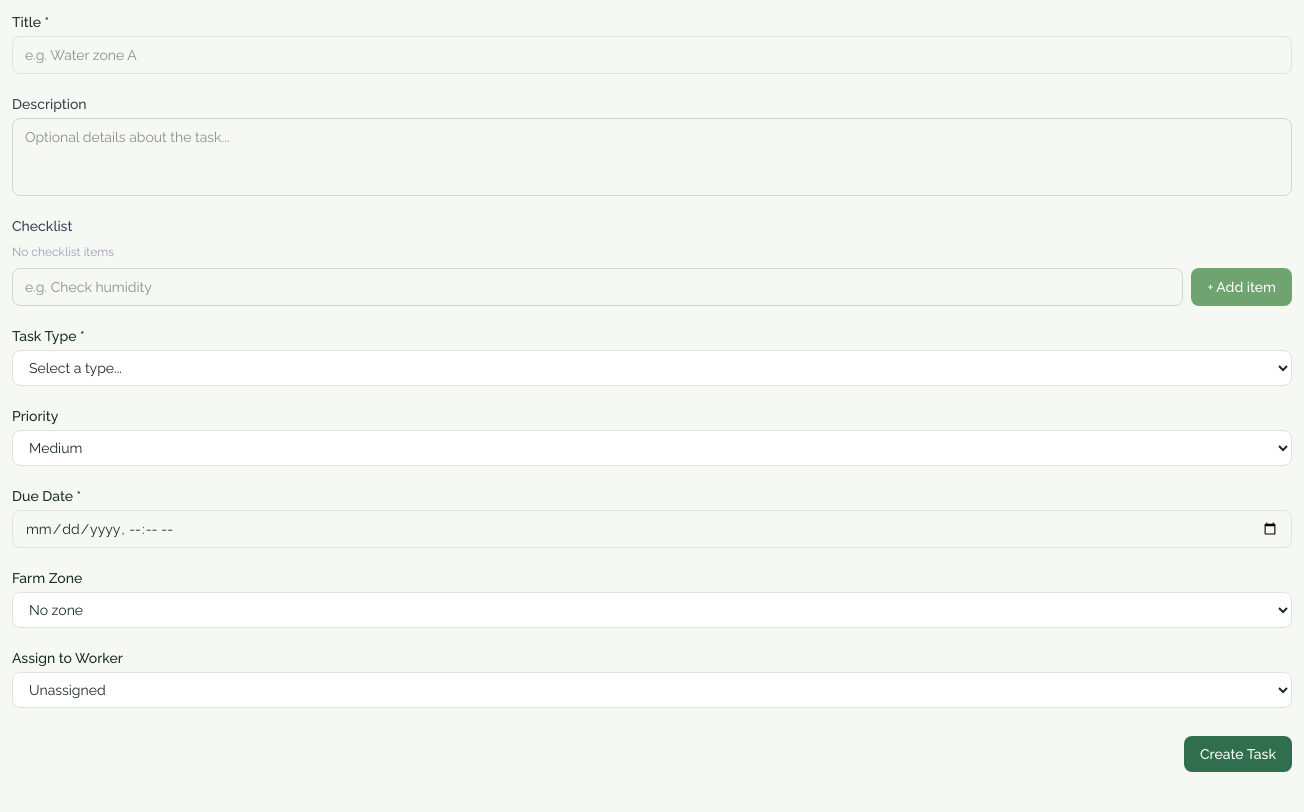
Test: TaskForm – checklist section › adds a new checklist item via the Add item button
In the field with placeholder "e.g. Check humidity": [598, 287] box [12,268,1183,306], type "New step"
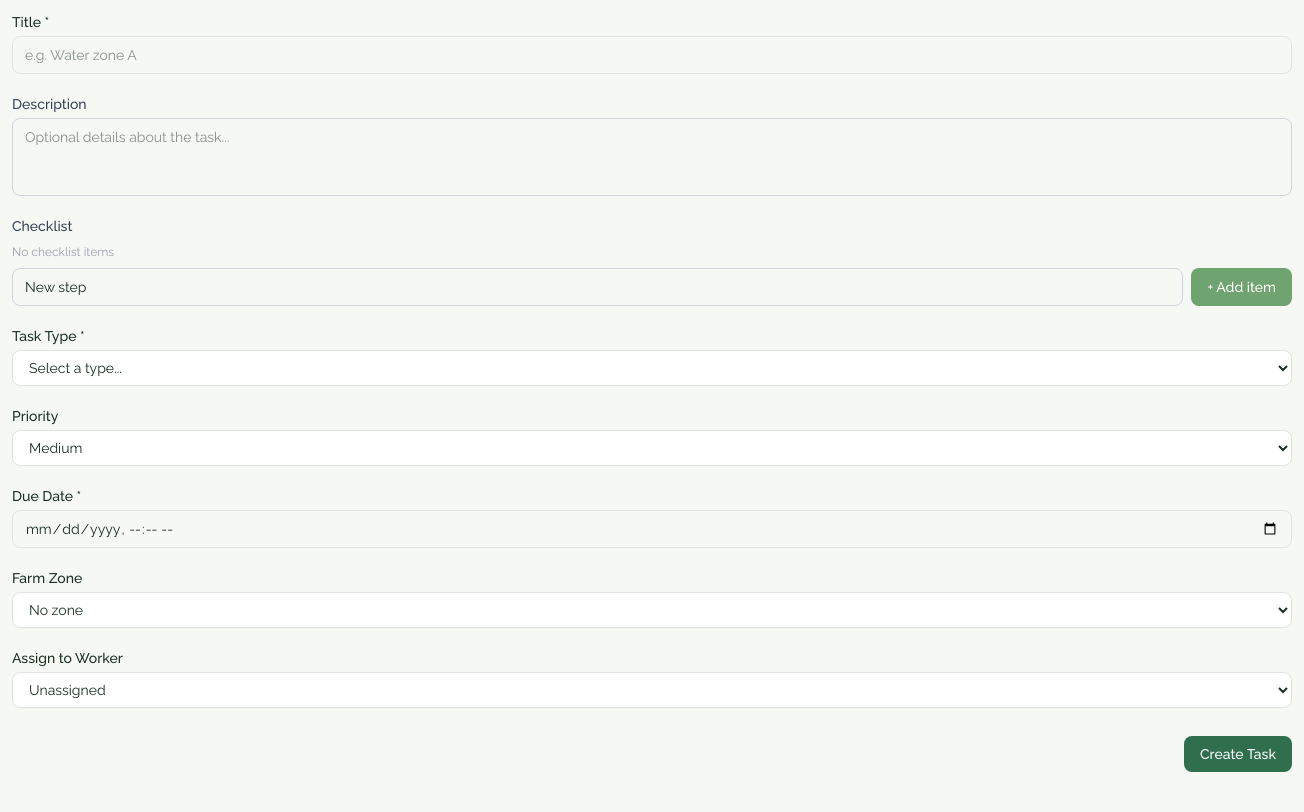
Click the button "+ Add item": [1242, 287] box [1191,268,1292,306]
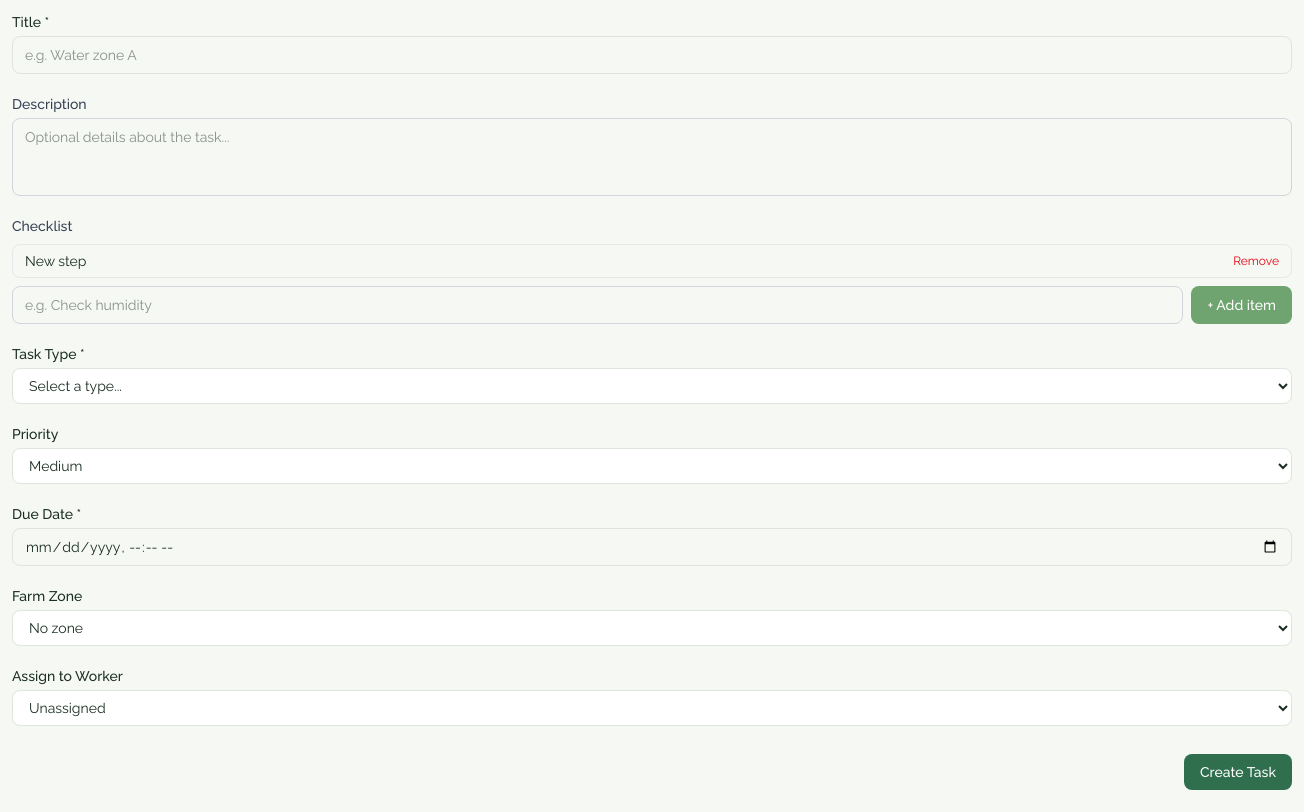
Now the number of fields named "Edit item" is 1, box [25,251,1225,271]
Now the field named "Edit item" holds "New step", box [25,251,1225,271]
Now the field with placeholder "e.g. Check humidity" is empty, box [12,286,1183,324]
